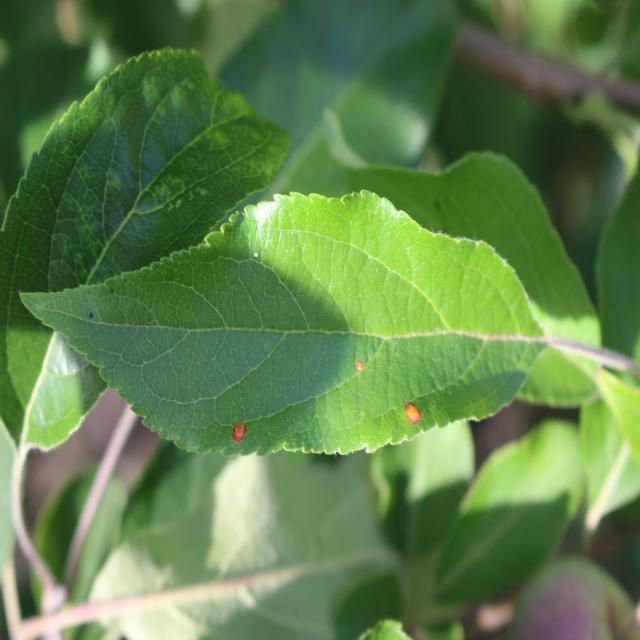Rust: (399, 393, 424, 438), (222, 413, 252, 447), (348, 356, 374, 383)
